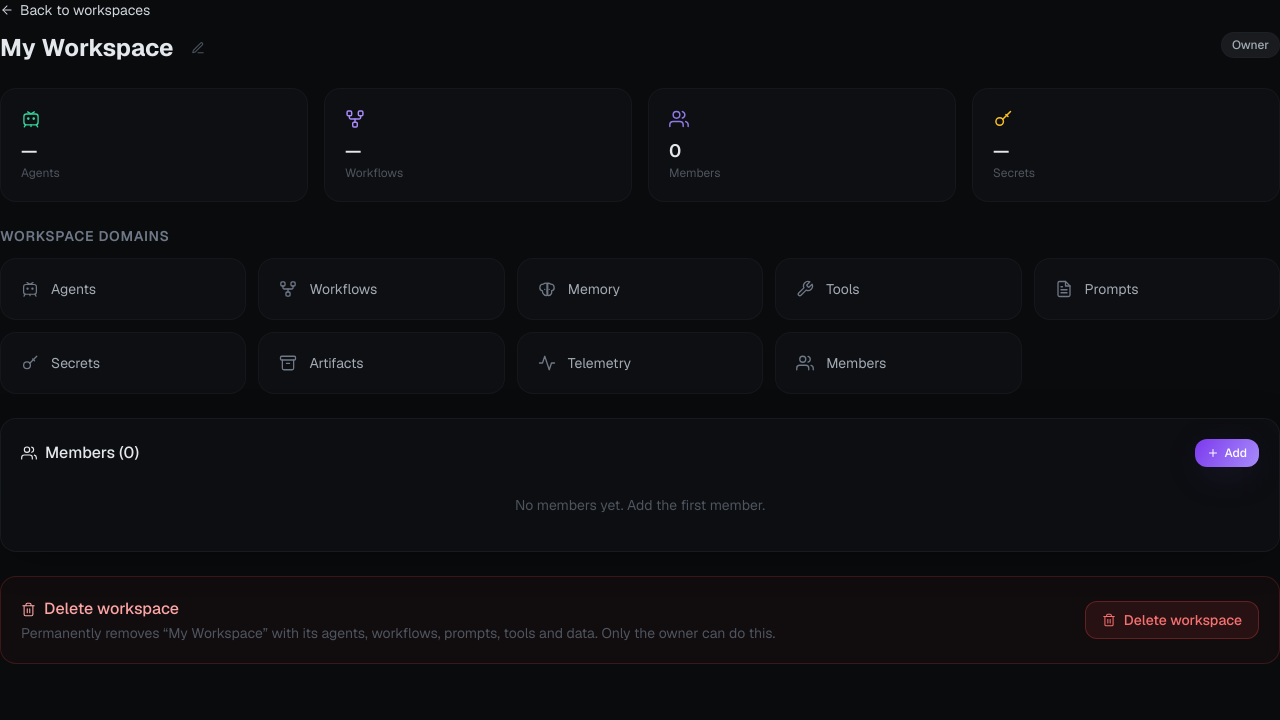
Scenario: WorkspaceDetail — members › shows a clear error when the email has no account
Step 1. Click the button "Add" → {"x": 1227, "y": 453}, box [1194, 439, 1259, 467]
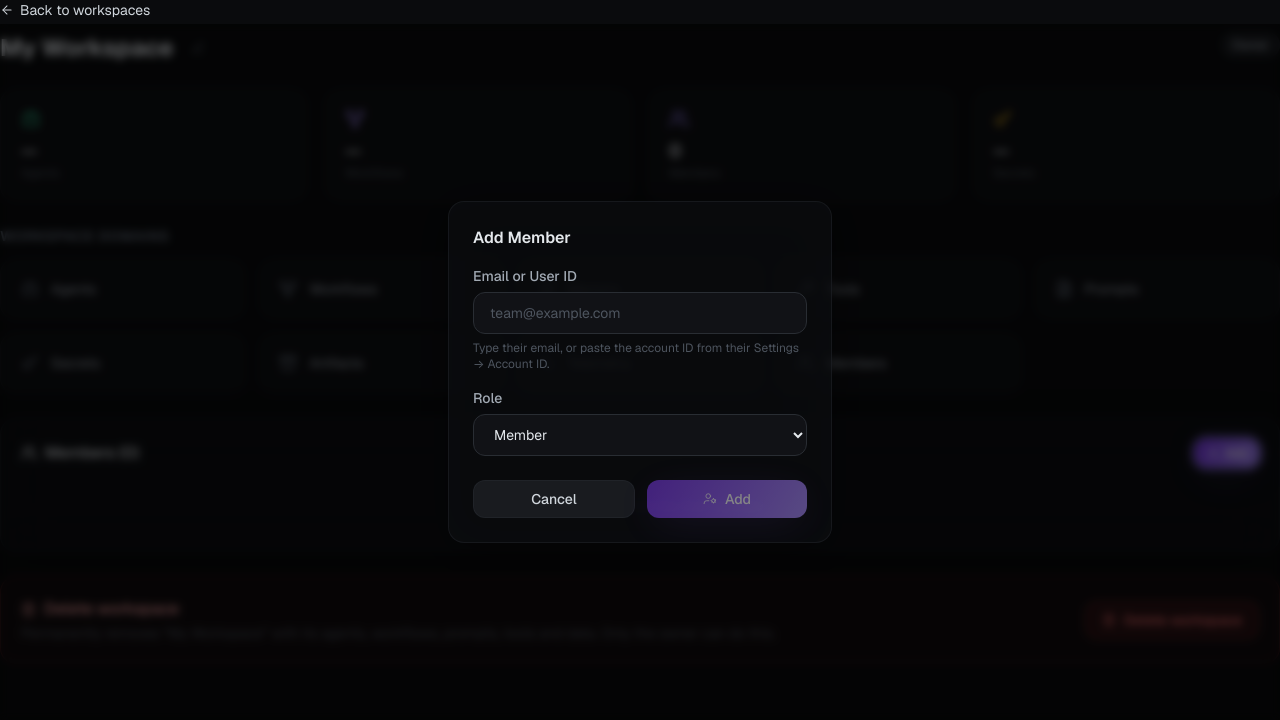
Step 2. Type "ghost@example.com" into the field with placeholder "team@example.com" → {"x": 640, "y": 313}, box [473, 292, 807, 334]
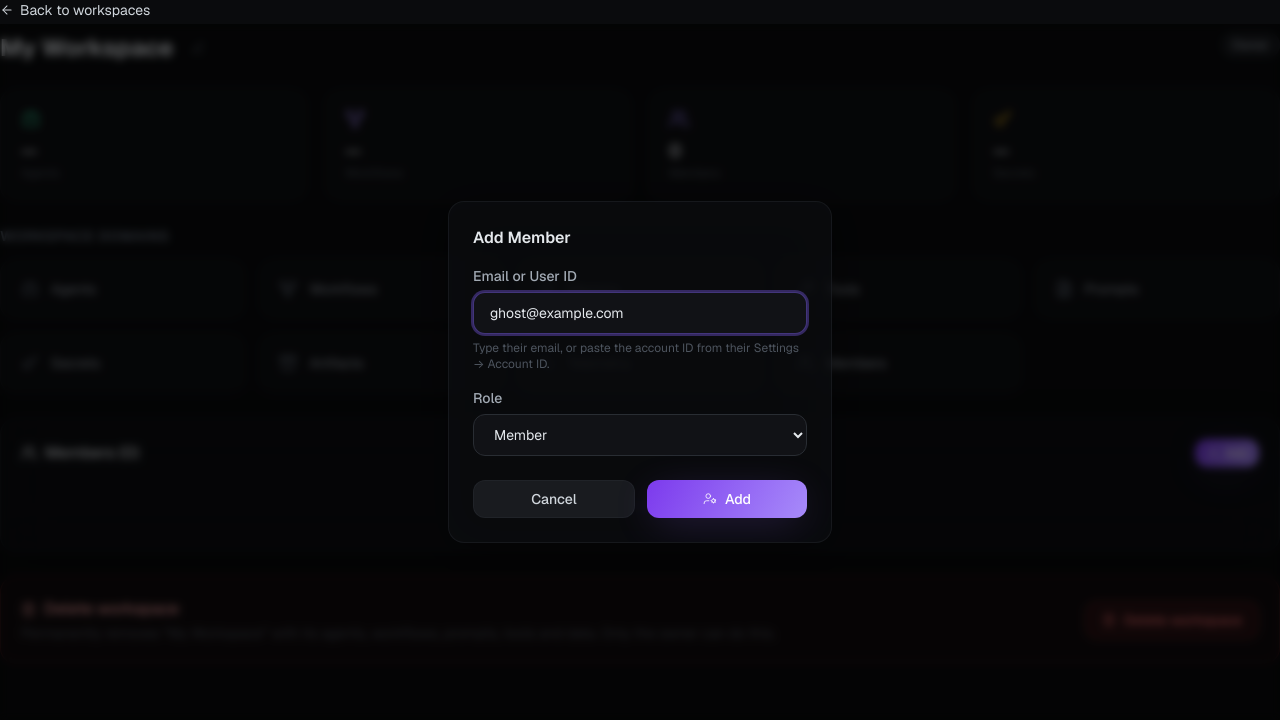
Step 3. Click the button "Add" → {"x": 727, "y": 499}, box [647, 480, 807, 518]
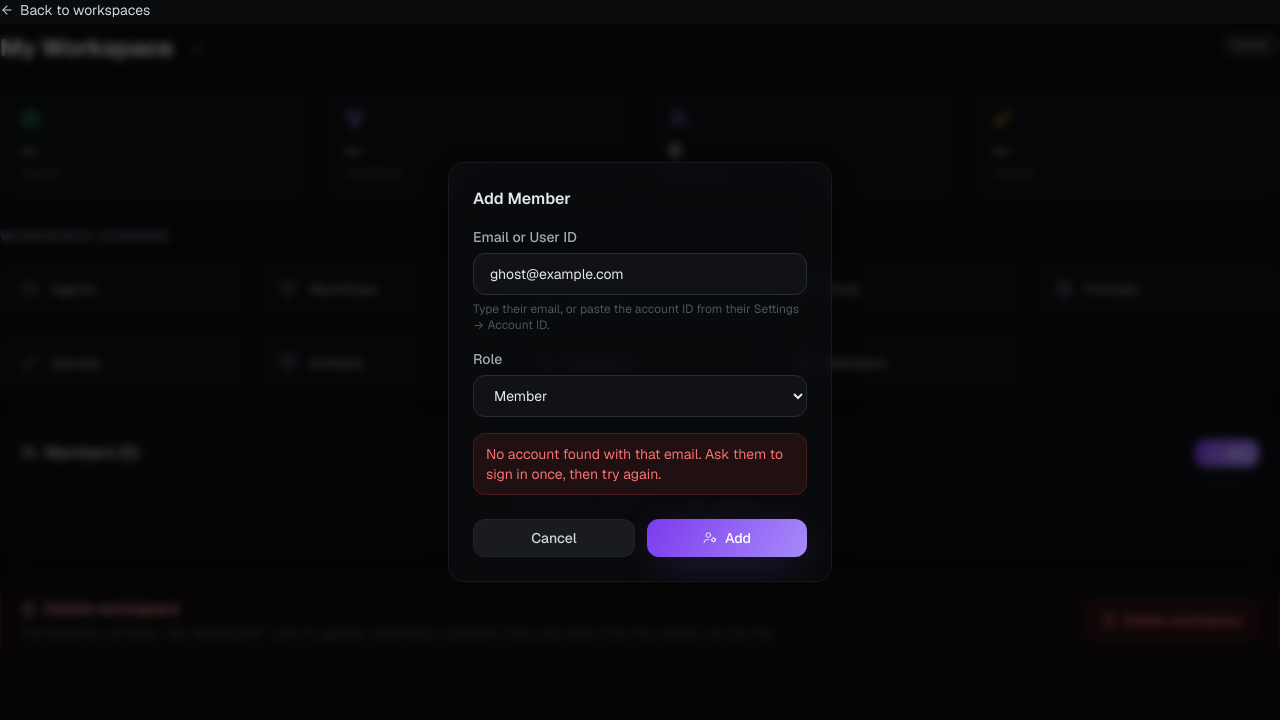
Expected: the text "No account found with that email" is shown, [486, 445, 783, 483]
